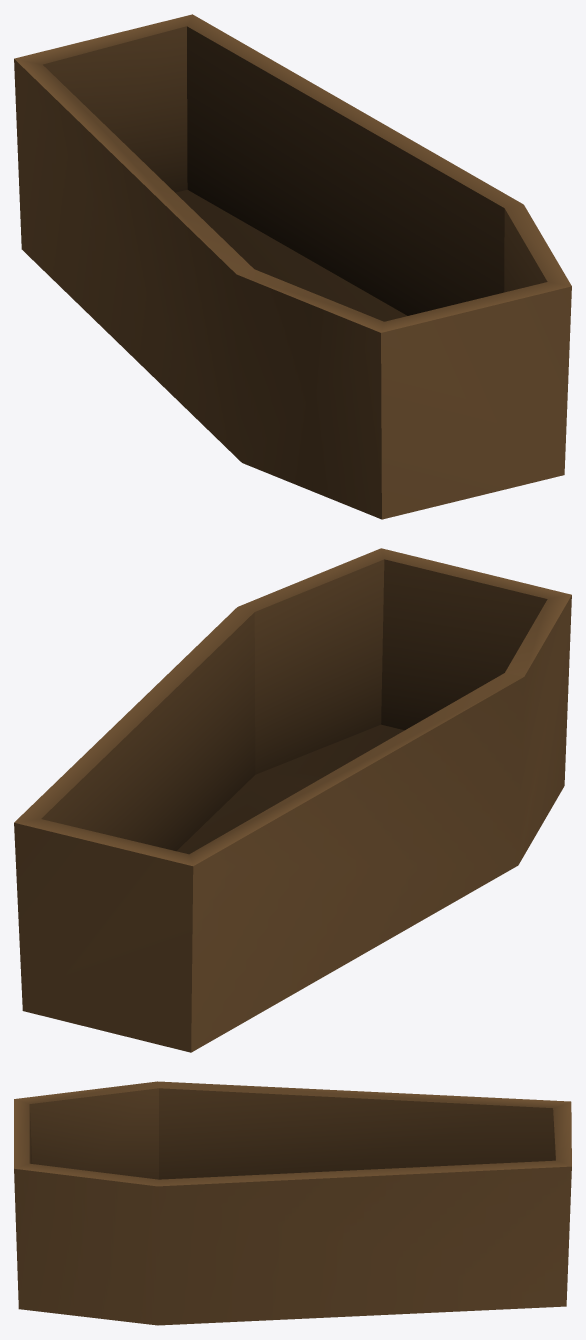
The model's file is obj_coffin_A_LOW.FBX.
3 renders of one model, top to bottom at view 1: azimuth 30°, elevation 25°; view 2: azimuth 150°, elevation 25°; view 3: azimuth 270°, elevation 25°, orthographic. The views are drawn at different scales.
Parts seen in each view (by area): view 1: obj_coffin_A_LOW; view 2: obj_coffin_A_LOW; view 3: obj_coffin_A_LOW.
Part boxes in pixels (x1,y1,x2,y2): obj_coffin_A_LOW: [14, 14, 571, 519]; obj_coffin_A_LOW: [14, 548, 571, 1052]; obj_coffin_A_LOW: [14, 1081, 571, 1325].
Bounding box in the file's own units: 1.41 × 0.89 × 3.17.
